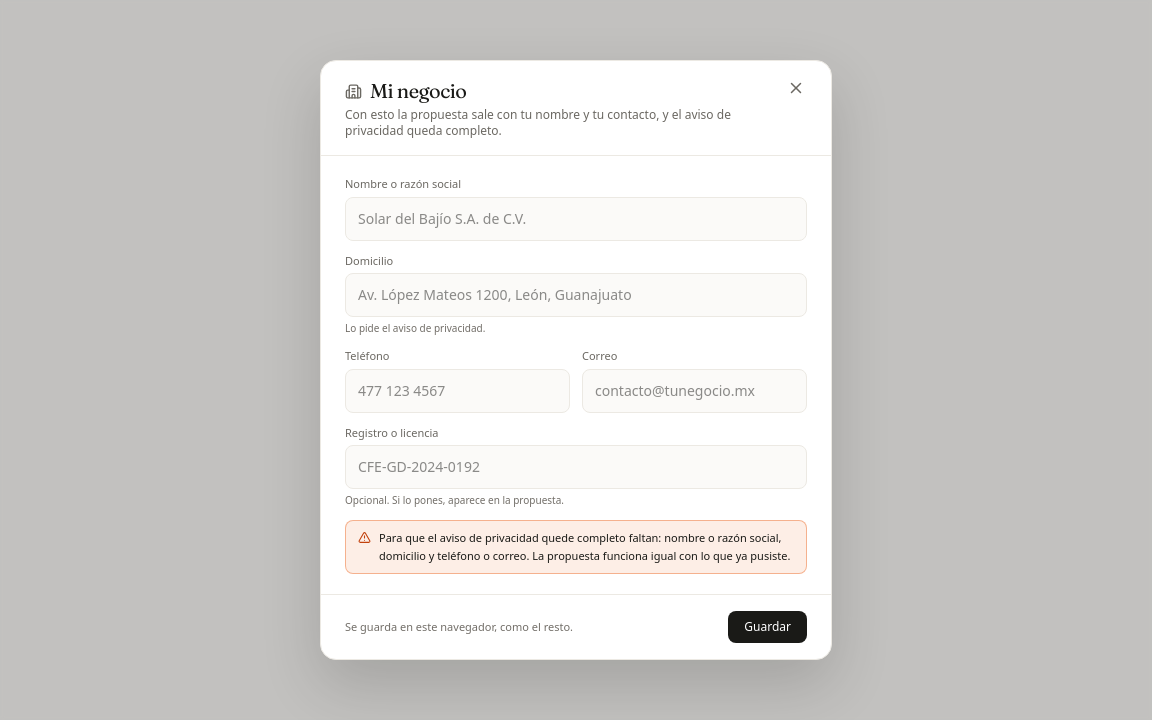
Test: Mi negocio › confirma el guardado en el propio botón
Type "Solar Norte" into the field with placeholder "Solar del Bajío S.A. de C.V." at (576, 219), box [345,197,807,241]
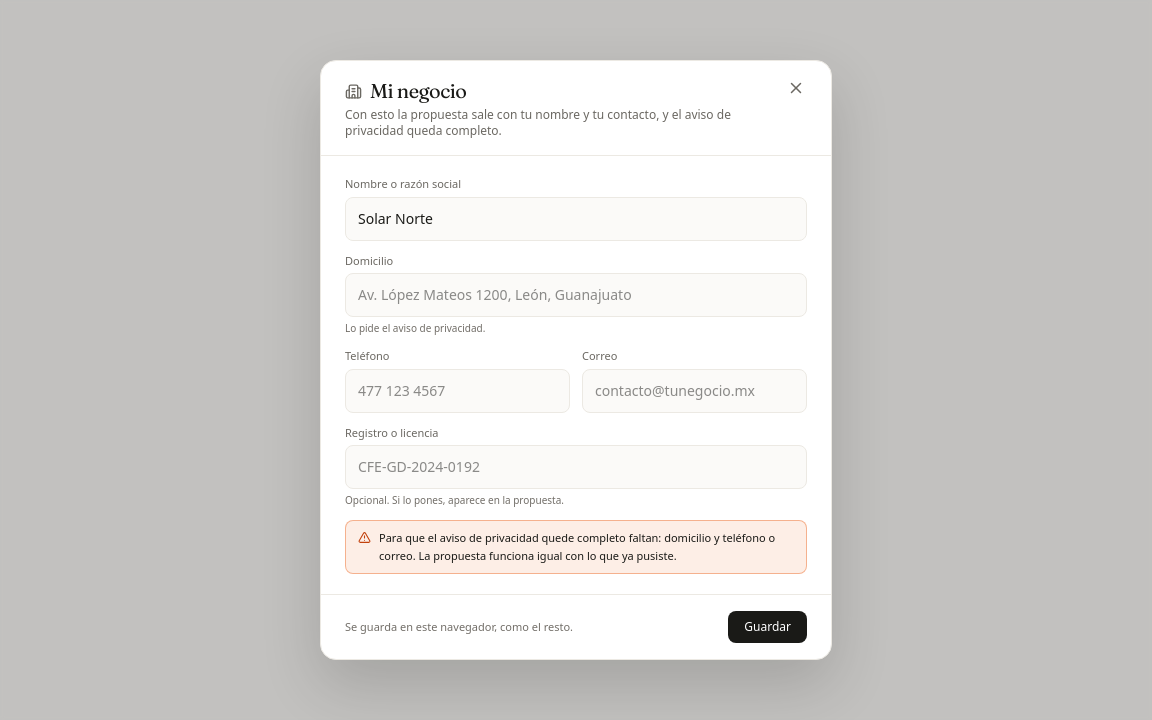
Click the button "Guardar" at (768, 627), box [728,611,807,643]
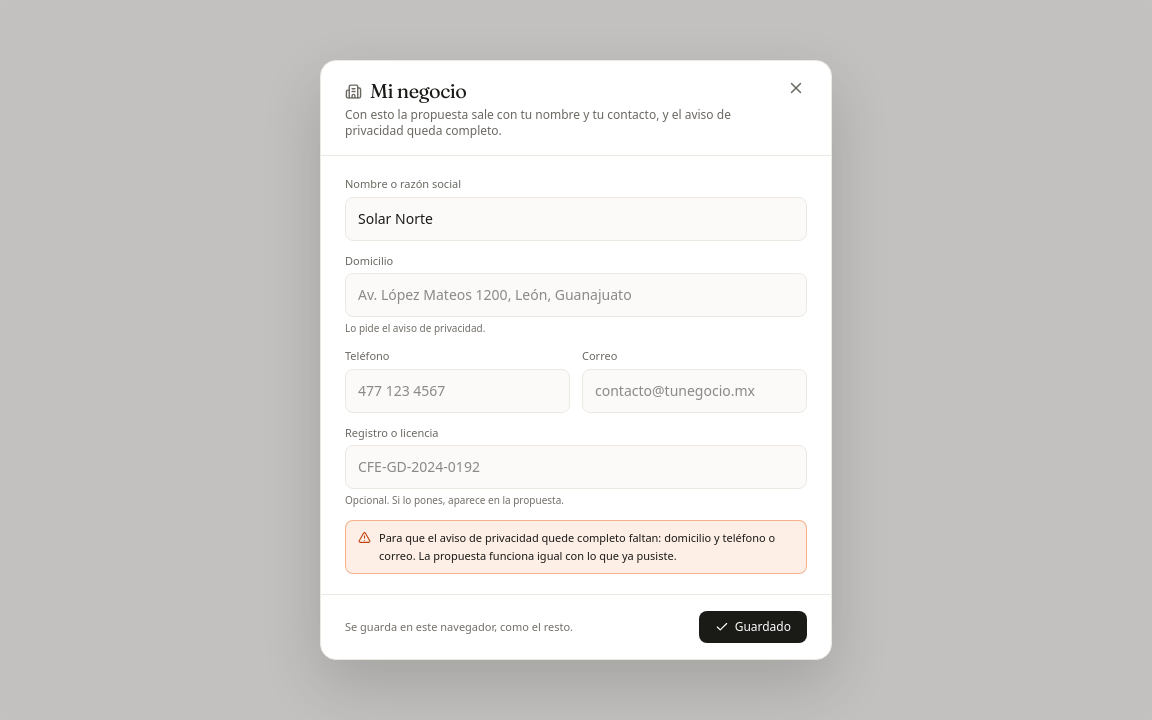
Now the button "Guardado" is shown, box [699,611,807,643]
